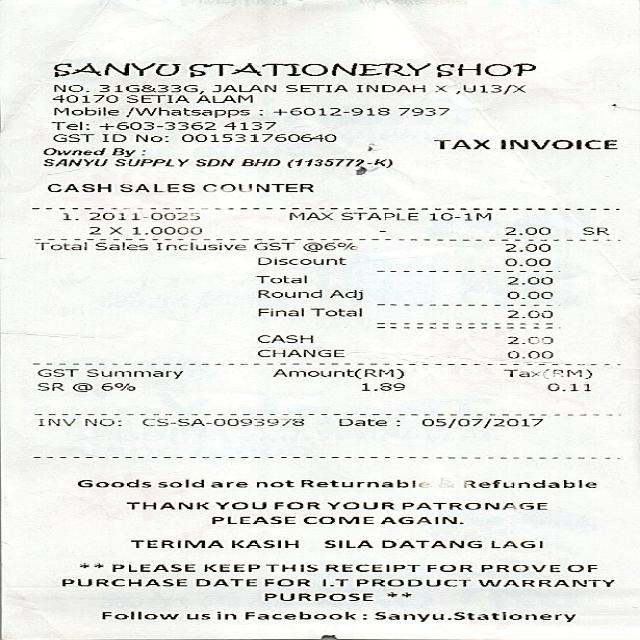text: (52, 62, 536, 76), (372, 611, 574, 621), (270, 367, 402, 379), (60, 210, 198, 220), (459, 478, 595, 488), (139, 418, 302, 426), (124, 107, 248, 117), (421, 418, 541, 428), (500, 138, 615, 148), (201, 182, 312, 192), (181, 134, 334, 141), (285, 158, 391, 168), (97, 121, 214, 130), (97, 84, 202, 94), (300, 479, 428, 487), (400, 502, 545, 509), (61, 578, 186, 586), (477, 579, 613, 586), (272, 107, 387, 115), (243, 611, 354, 619), (262, 592, 372, 600), (157, 240, 243, 250), (86, 369, 181, 378), (354, 579, 469, 586), (380, 540, 480, 548), (342, 211, 418, 221), (118, 182, 192, 192), (454, 84, 523, 94), (256, 348, 342, 356), (301, 240, 358, 252), (109, 563, 194, 571), (324, 564, 418, 571), (76, 478, 149, 487), (129, 540, 222, 547), (478, 564, 558, 572), (46, 182, 109, 192), (99, 611, 177, 619), (432, 138, 488, 149), (256, 257, 344, 264), (112, 158, 188, 166), (210, 516, 294, 523), (125, 502, 207, 509), (379, 516, 461, 523), (354, 84, 423, 92), (131, 226, 200, 234), (253, 274, 308, 284), (51, 107, 117, 115), (41, 158, 106, 166), (427, 212, 492, 220), (210, 84, 274, 92), (42, 147, 105, 155), (256, 289, 319, 297), (300, 516, 372, 523), (284, 84, 346, 92), (337, 418, 398, 426), (32, 241, 86, 250), (195, 578, 255, 586), (229, 540, 297, 547), (543, 369, 590, 379), (502, 350, 554, 359), (326, 502, 392, 509), (256, 306, 302, 316), (309, 307, 360, 316), (50, 95, 115, 102), (255, 334, 311, 342), (203, 563, 258, 571), (125, 95, 187, 102), (504, 335, 552, 344), (222, 121, 274, 129), (94, 243, 146, 251), (264, 563, 316, 571), (286, 211, 332, 220), (156, 478, 202, 487), (251, 240, 292, 250), (397, 107, 448, 115), (489, 540, 540, 548), (500, 243, 550, 251), (193, 95, 250, 102), (322, 540, 371, 548), (504, 310, 552, 318), (262, 578, 309, 586), (504, 226, 548, 234), (504, 258, 548, 266), (506, 276, 550, 284), (506, 290, 550, 298), (359, 382, 403, 390), (545, 382, 589, 390), (214, 502, 264, 509), (327, 289, 361, 299), (272, 502, 318, 509), (239, 158, 278, 166), (193, 158, 232, 166), (253, 479, 292, 487), (426, 564, 470, 571), (50, 121, 87, 129), (83, 418, 120, 426), (51, 134, 93, 141), (35, 369, 77, 376), (52, 84, 87, 92), (99, 382, 133, 390), (502, 369, 540, 376), (35, 418, 73, 425), (133, 134, 167, 141), (567, 564, 595, 572), (209, 481, 246, 487), (319, 578, 346, 586), (580, 226, 606, 234), (36, 382, 62, 390), (70, 382, 90, 392), (110, 148, 134, 156), (101, 134, 124, 141), (216, 611, 234, 619), (437, 479, 454, 487), (186, 613, 208, 619), (86, 226, 99, 234), (107, 226, 120, 234), (433, 85, 444, 92)
